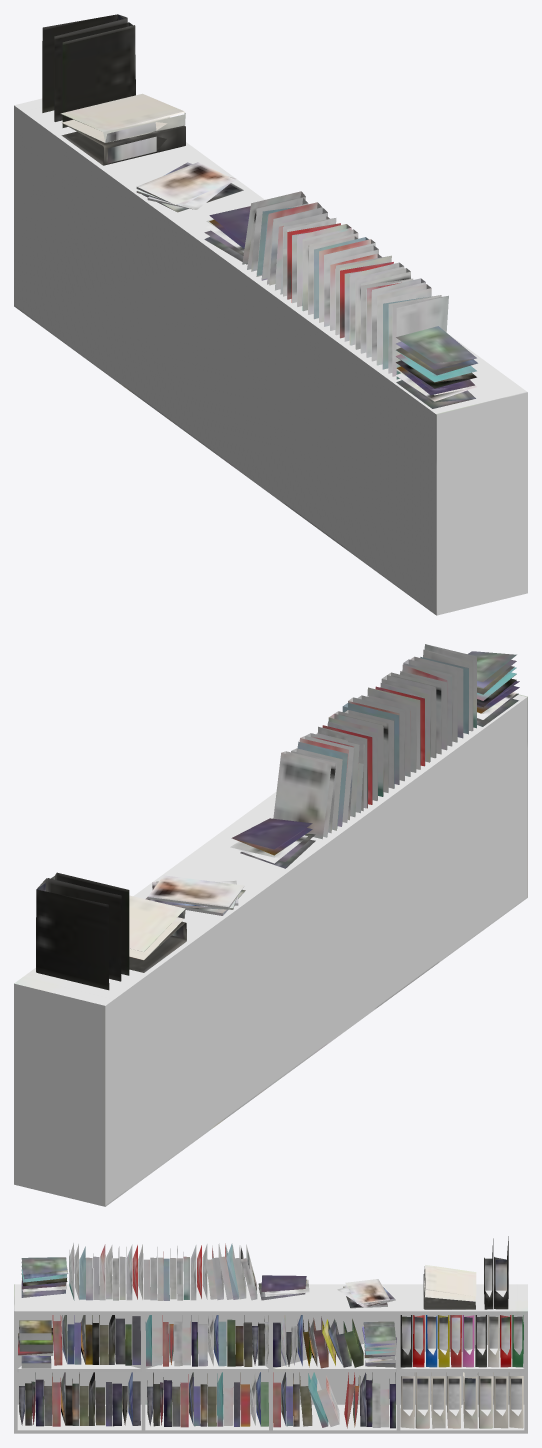
File: Bookshelf0001.obj
3 renders of one model, top to bottom at view 1: azimuth 30°, elevation 25°; view 2: azimuth 150°, elevation 25°; view 3: azimuth 270°, elevation 25°, orthographic. The views are drawn at different scales.
Size of the model in its own units: 0.379 by 1.05 by 2.8.
Materials: 1 (1 with a texture image).
